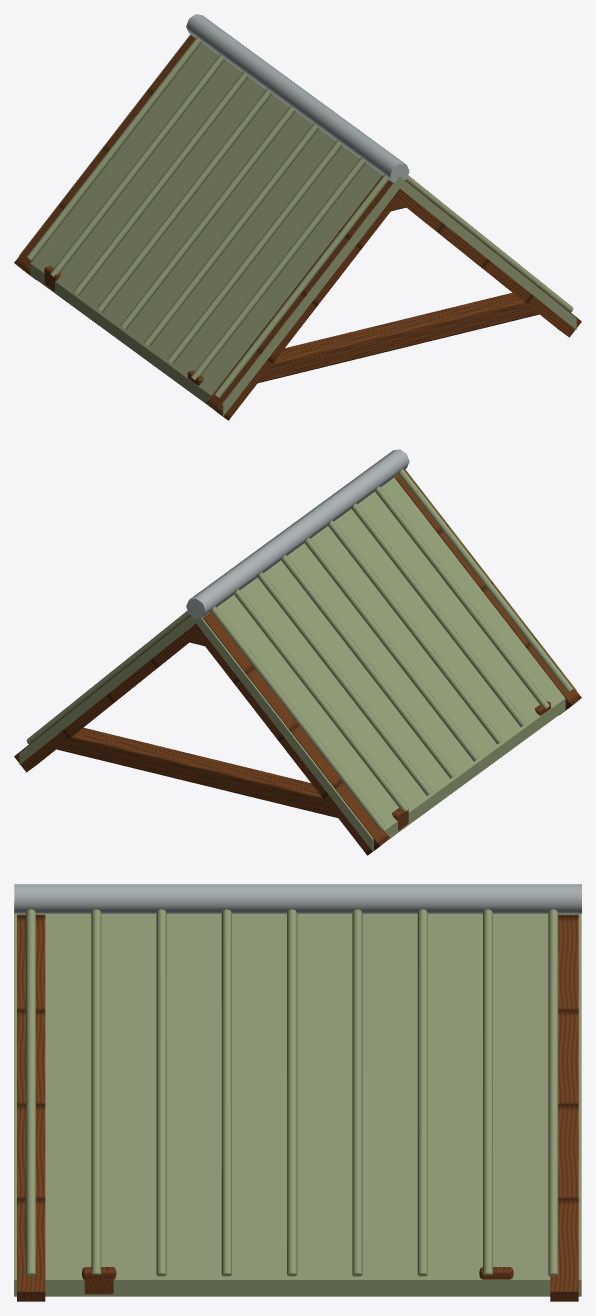
The model's file is modular-survival-base-builder-roof-thatch-ridge-0da85678__24186.glb.
3 views of the same model, one above another, from view 1: azimuth 30°, elevation 25°; view 2: azimuth 150°, elevation 25°; view 3: azimuth 270°, elevation 25° (orthographic). The views are drawn at different scales.
Visible parts, largest first — view 1: roof-thatch-ridge; view 2: roof-thatch-ridge; view 3: roof-thatch-ridge.
Boxes of the visible parts, x1,y1,x2,y2 form: roof-thatch-ridge: (14, 14, 581, 420); roof-thatch-ridge: (14, 449, 581, 855); roof-thatch-ridge: (14, 884, 581, 1301).
Size of the model in its own units: 2.07 by 1.17 by 2.
Materials: 3 (1 with a texture image).
